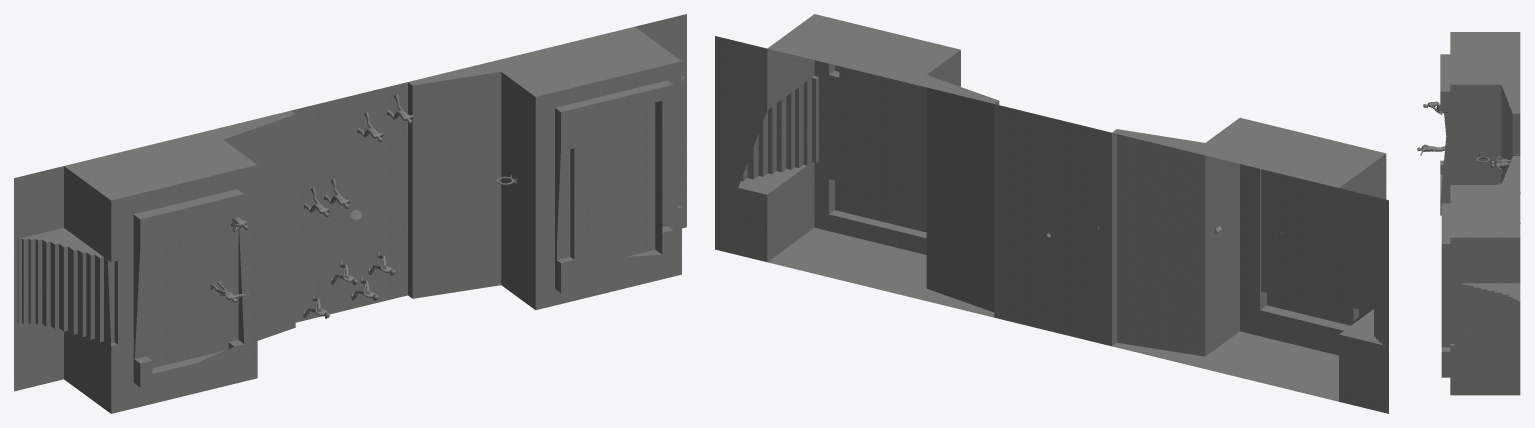
File: sayil.glb
3 views of the same model, side by side, from view 1: azimuth 30°, elevation 25°; view 2: azimuth 150°, elevation 25°; view 3: azimuth 270°, elevation 25° (orthographic). The views are drawn at different scales.
Visible parts, largest first — view 1: Object_4; view 2: Object_4; view 3: Object_4, Object_8, Object_5, Object_9.
Part boxes in pixels (x1=…): Object_4: x1=14, y1=14, x2=686, y2=413; Object_4: x1=715, y1=14, x2=1388, y2=413; Object_4: x1=1440, y1=32, x2=1520, y2=395; Object_8: x1=1490, y1=153, x2=1518, y2=174; Object_5: x1=1417, y1=144, x2=1445, y2=155; Object_9: x1=1423, y1=101, x2=1448, y2=114.
Size of the model in its own units: 33 by 10 by 5.94.
1 material, 1 textured.
